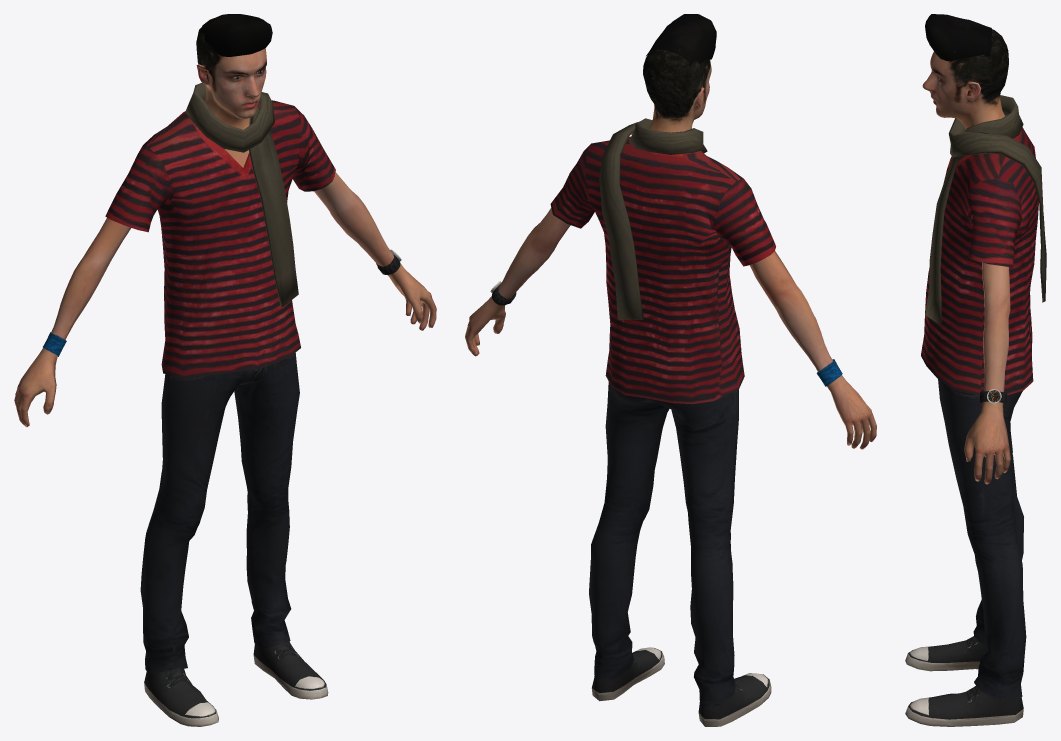
The model's file is ped-hipster.glb.
The picture shows the model from 3 angles, left to right: view 1: azimuth 30°, elevation 25°; view 2: azimuth 150°, elevation 25°; view 3: azimuth 270°, elevation 25°; orthographic projection. The views are drawn at different scales.
Bounding box in the file's own units: 1.18 × 1.86 × 0.3545.
5 materials, 5 textured.
